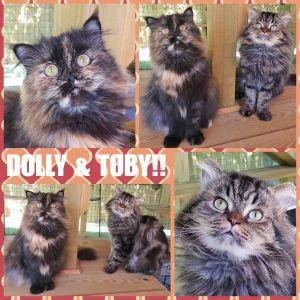persian: (180, 158, 297, 263)
